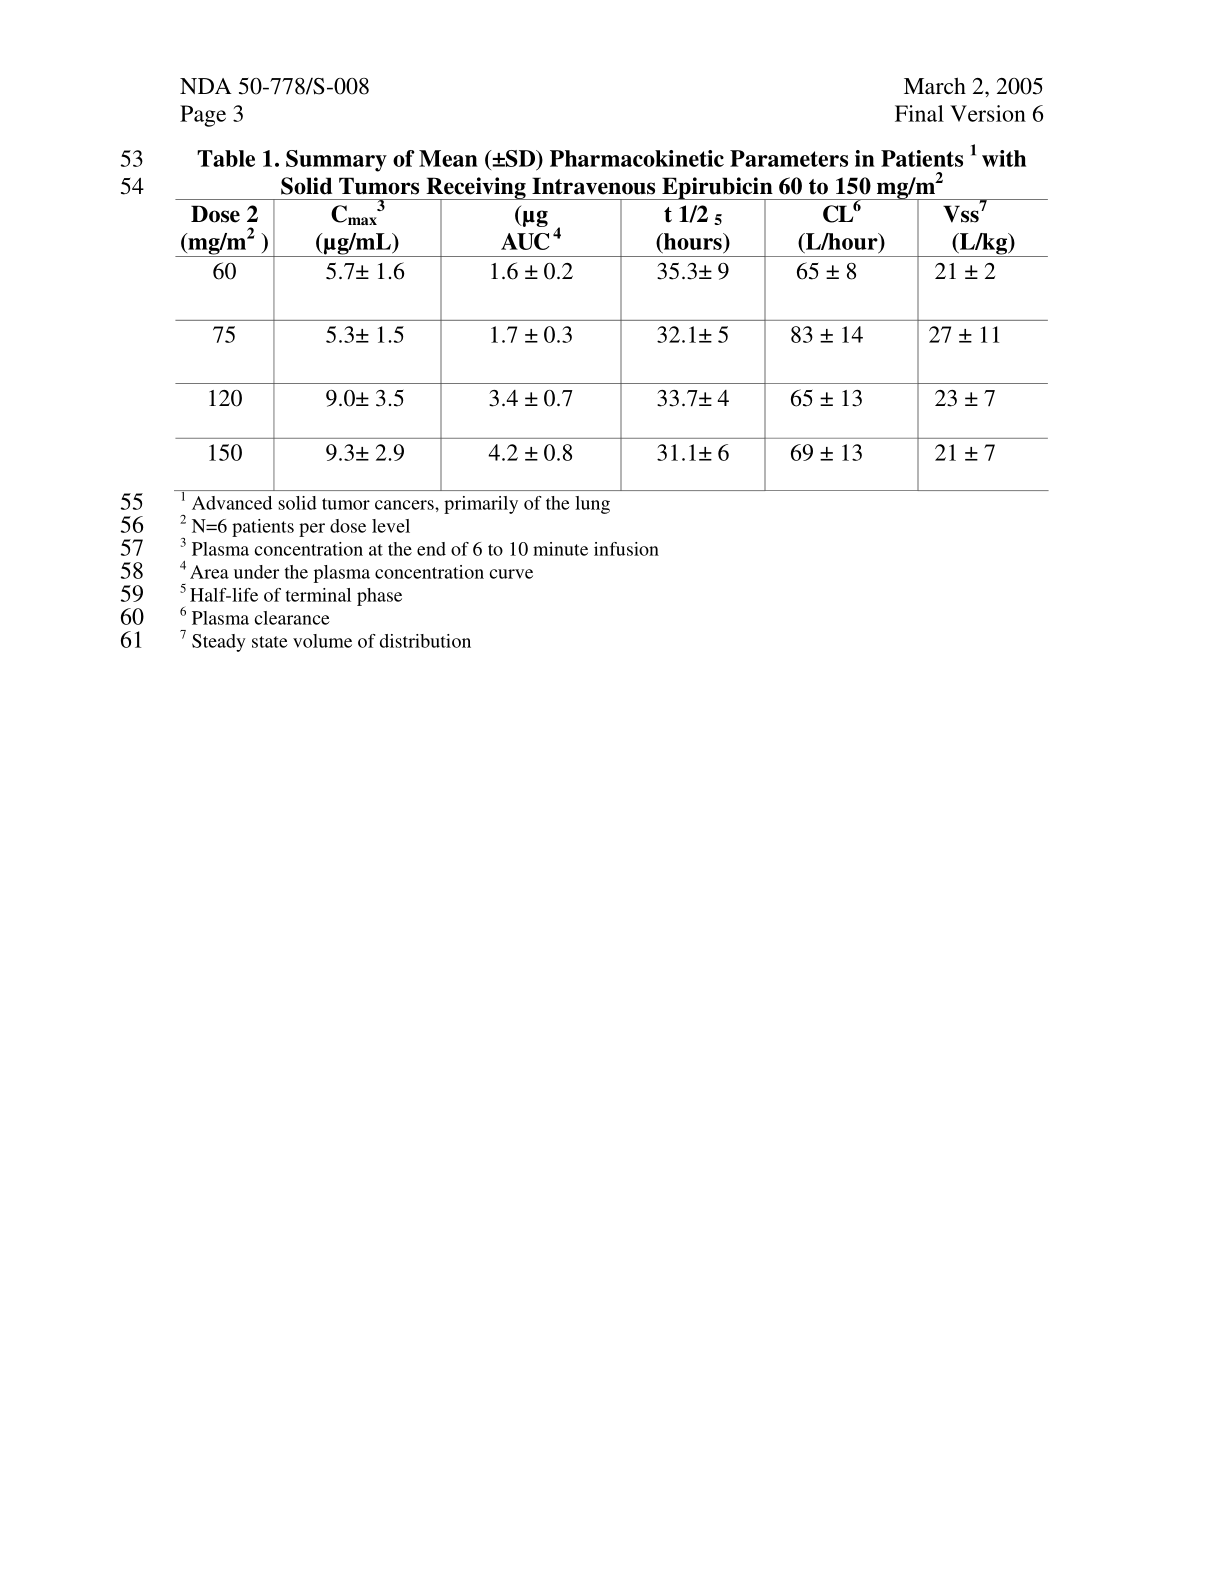partial_lined: (172, 197, 1050, 494)
